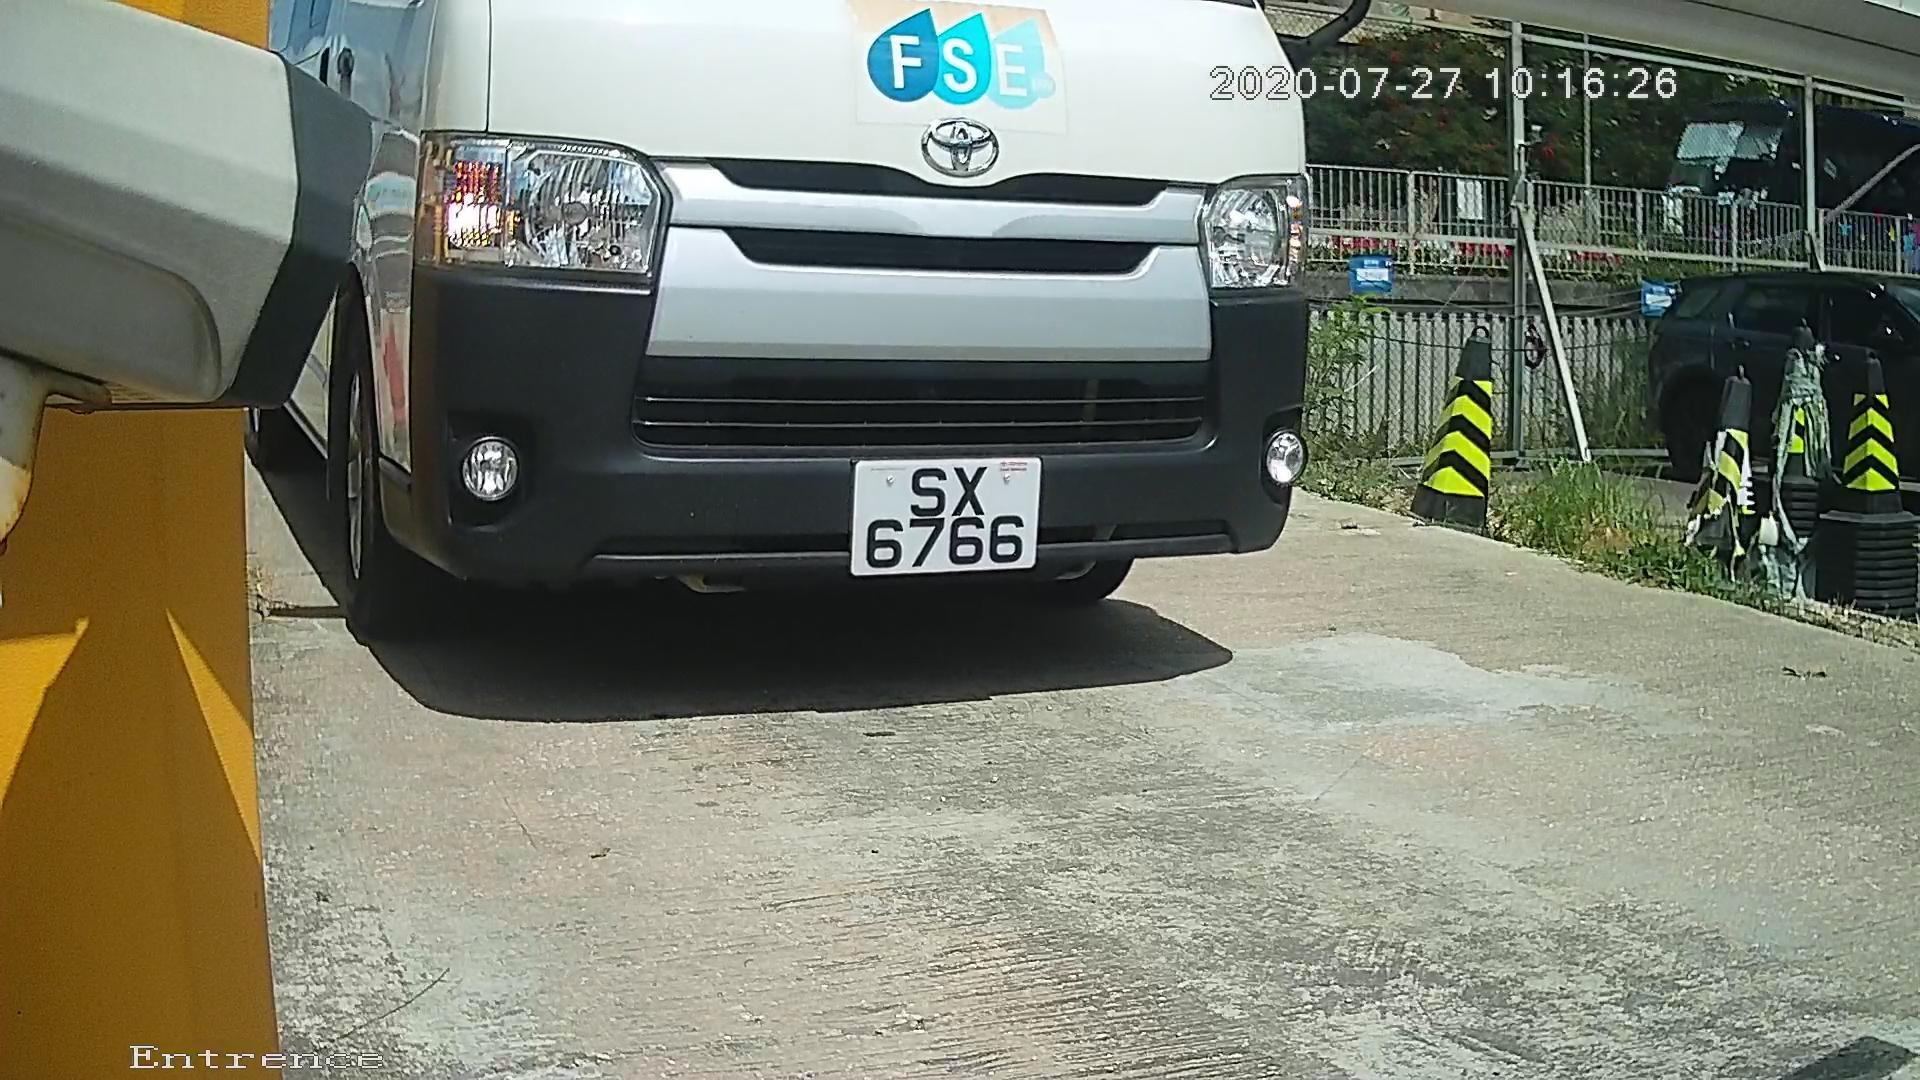Car: (112, 20, 1381, 719)
License Plate: (823, 454, 1055, 579)
